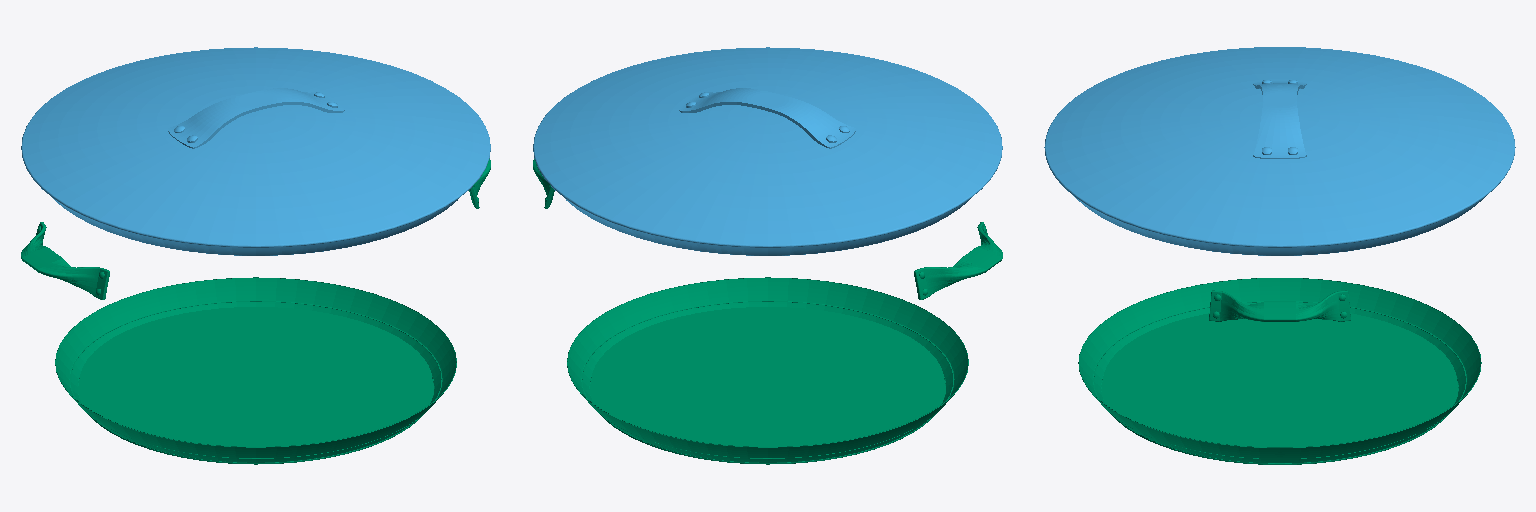
The robot description file, URDF, robot "partnet_u90e167cc-b75d-420e-bee9-9e7713761a19":
<?xml version="1.0" ?>
<robot name="partnet_u90e167cc-b75d-420e-bee9-9e7713761a19">
	<link name="base"/>
	<link name="link_0">
		<visual name="lid-1">
			<origin xyz="0 0 0"/>
			<geometry>
				<mesh filename="textured_objs/original-8.obj" scale="0.2 0.2 0.2"/>
			</geometry>
		</visual>
		<visual name="lid-1">
			<origin xyz="0 0 0"/>
			<geometry>
				<mesh filename="textured_objs/original-4.obj" scale="0.2 0.2 0.2"/>
			</geometry>
		</visual>
		<visual name="lid-1">
			<origin xyz="0 0 0"/>
			<geometry>
				<mesh filename="textured_objs/original-7.obj" scale="0.2 0.2 0.2"/>
			</geometry>
		</visual>
		<visual name="lid-1">
			<origin xyz="0 0 0"/>
			<geometry>
				<mesh filename="textured_objs/original-5.obj" scale="0.2 0.2 0.2"/>
			</geometry>
		</visual>
		<visual name="lid-1">
			<origin xyz="0 0 0"/>
			<geometry>
				<mesh filename="textured_objs/original-6.obj" scale="0.2 0.2 0.2"/>
			</geometry>
		</visual>
		<visual name="lid-1">
			<origin xyz="0 0 0"/>
			<geometry>
				<mesh filename="textured_objs/original-3.obj" scale="0.2 0.2 0.2"/>
			</geometry>
		</visual>
		<collision>
			<origin xyz="0 0 0"/>
			<geometry>
				<mesh filename="textured_objs/original-8.obj" scale="0.2 0.2 0.2"/>
			</geometry>
		</collision>
		<collision>
			<origin xyz="0 0 0"/>
			<geometry>
				<mesh filename="textured_objs/original-4.obj" scale="0.2 0.2 0.2"/>
			</geometry>
		</collision>
		<collision>
			<origin xyz="0 0 0"/>
			<geometry>
				<mesh filename="textured_objs/original-7.obj" scale="0.2 0.2 0.2"/>
			</geometry>
		</collision>
		<collision>
			<origin xyz="0 0 0"/>
			<geometry>
				<mesh filename="textured_objs/original-5.obj" scale="0.2 0.2 0.2"/>
			</geometry>
		</collision>
		<collision>
			<origin xyz="0 0 0"/>
			<geometry>
				<mesh filename="textured_objs/original-6.obj" scale="0.2 0.2 0.2"/>
			</geometry>
		</collision>
		<collision>
			<origin xyz="0 0 0"/>
			<geometry>
				<mesh filename="textured_objs/original-3.obj" scale="0.2 0.2 0.2"/>
			</geometry>
		</collision>
	</link>
	<joint name="joint_0" type="prismatic">
		<origin xyz="0 0 0"/>
		<axis xyz="0 1 0"/>
		<child link="link_0"/>
		<parent link="link_1"/>
		<limit lower="0" upper="0.1"/>
	</joint>
	<link name="link_1">
		<visual name="base_body-2">
			<origin xyz="0 0 0"/>
			<geometry>
				<mesh filename="textured_objs/original-29.obj" scale="0.2 0.2 0.2"/>
			</geometry>
		</visual>
		<visual name="base_body-2">
			<origin xyz="0 0 0"/>
			<geometry>
				<mesh filename="textured_objs/original-21.obj" scale="0.2 0.2 0.2"/>
			</geometry>
		</visual>
		<visual name="base_body-2">
			<origin xyz="0 0 0"/>
			<geometry>
				<mesh filename="textured_objs/original-36.obj" scale="0.2 0.2 0.2"/>
			</geometry>
		</visual>
		<visual name="base_body-2">
			<origin xyz="0 0 0"/>
			<geometry>
				<mesh filename="textured_objs/original-41.obj" scale="0.2 0.2 0.2"/>
			</geometry>
		</visual>
		<visual name="base_body-2">
			<origin xyz="0 0 0"/>
			<geometry>
				<mesh filename="textured_objs/original-28.obj" scale="0.2 0.2 0.2"/>
			</geometry>
		</visual>
		<visual name="base_body-2">
			<origin xyz="0 0 0"/>
			<geometry>
				<mesh filename="textured_objs/original-43.obj" scale="0.2 0.2 0.2"/>
			</geometry>
		</visual>
		<visual name="base_body-2">
			<origin xyz="0 0 0"/>
			<geometry>
				<mesh filename="textured_objs/original-52.obj" scale="0.2 0.2 0.2"/>
			</geometry>
		</visual>
		<visual name="base_body-2">
			<origin xyz="0 0 0"/>
			<geometry>
				<mesh filename="textured_objs/original-22.obj" scale="0.2 0.2 0.2"/>
			</geometry>
		</visual>
		<visual name="base_body-2">
			<origin xyz="0 0 0"/>
			<geometry>
				<mesh filename="textured_objs/original-44.obj" scale="0.2 0.2 0.2"/>
			</geometry>
		</visual>
		<visual name="base_body-2">
			<origin xyz="0 0 0"/>
			<geometry>
				<mesh filename="textured_objs/original-16.obj" scale="0.2 0.2 0.2"/>
			</geometry>
		</visual>
		<visual name="base_body-2">
			<origin xyz="0 0 0"/>
			<geometry>
				<mesh filename="textured_objs/original-45.obj" scale="0.2 0.2 0.2"/>
			</geometry>
		</visual>
		<visual name="base_body-2">
			<origin xyz="0 0 0"/>
			<geometry>
				<mesh filename="textured_objs/original-35.obj" scale="0.2 0.2 0.2"/>
			</geometry>
		</visual>
		<visual name="base_body-2">
			<origin xyz="0 0 0"/>
			<geometry>
				<mesh filename="textured_objs/original-49.obj" scale="0.2 0.2 0.2"/>
			</geometry>
		</visual>
		<visual name="base_body-2">
			<origin xyz="0 0 0"/>
			<geometry>
				<mesh filename="textured_objs/original-61.obj" scale="0.2 0.2 0.2"/>
			</geometry>
		</visual>
		<visual name="base_body-2">
			<origin xyz="0 0 0"/>
			<geometry>
				<mesh filename="textured_objs/original-39.obj" scale="0.2 0.2 0.2"/>
			</geometry>
		</visual>
		<visual name="base_body-2">
			<origin xyz="0 0 0"/>
			<geometry>
				<mesh filename="textured_objs/original-59.obj" scale="0.2 0.2 0.2"/>
			</geometry>
		</visual>
		<visual name="base_body-2">
			<origin xyz="0 0 0"/>
			<geometry>
				<mesh filename="textured_objs/original-54.obj" scale="0.2 0.2 0.2"/>
			</geometry>
		</visual>
		<visual name="base_body-2">
			<origin xyz="0 0 0"/>
			<geometry>
				<mesh filename="textured_objs/original-27.obj" scale="0.2 0.2 0.2"/>
			</geometry>
		</visual>
		<visual name="base_body-2">
			<origin xyz="0 0 0"/>
			<geometry>
				<mesh filename="textured_objs/original-51.obj" scale="0.2 0.2 0.2"/>
			</geometry>
		</visual>
		<visual name="base_body-2">
			<origin xyz="0 0 0"/>
			<geometry>
				<mesh filename="textured_objs/original-55.obj" scale="0.2 0.2 0.2"/>
			</geometry>
		</visual>
		<visual name="base_body-2">
			<origin xyz="0 0 0"/>
			<geometry>
				<mesh filename="textured_objs/original-50.obj" scale="0.2 0.2 0.2"/>
			</geometry>
		</visual>
		<visual name="base_body-2">
			<origin xyz="0 0 0"/>
			<geometry>
				<mesh filename="textured_objs/original-31.obj" scale="0.2 0.2 0.2"/>
			</geometry>
		</visual>
		<visual name="base_body-2">
			<origin xyz="0 0 0"/>
			<geometry>
				<mesh filename="textured_objs/original-37.obj" scale="0.2 0.2 0.2"/>
			</geometry>
		</visual>
		<visual name="base_body-2">
			<origin xyz="0 0 0"/>
			<geometry>
				<mesh filename="textured_objs/original-48.obj" scale="0.2 0.2 0.2"/>
			</geometry>
		</visual>
		<visual name="base_body-2">
			<origin xyz="0 0 0"/>
			<geometry>
				<mesh filename="textured_objs/original-15.obj" scale="0.2 0.2 0.2"/>
			</geometry>
		</visual>
		<visual name="base_body-2">
			<origin xyz="0 0 0"/>
			<geometry>
				<mesh filename="textured_objs/original-56.obj" scale="0.2 0.2 0.2"/>
			</geometry>
		</visual>
		<visual name="base_body-2">
			<origin xyz="0 0 0"/>
			<geometry>
				<mesh filename="textured_objs/original-62.obj" scale="0.2 0.2 0.2"/>
			</geometry>
		</visual>
		<visual name="base_body-2">
			<origin xyz="0 0 0"/>
			<geometry>
				<mesh filename="textured_objs/original-58.obj" scale="0.2 0.2 0.2"/>
			</geometry>
		</visual>
		<visual name="base_body-2">
			<origin xyz="0 0 0"/>
			<geometry>
				<mesh filename="textured_objs/original-38.obj" scale="0.2 0.2 0.2"/>
			</geometry>
		</visual>
		<visual name="base_body-2">
			<origin xyz="0 0 0"/>
			<geometry>
				<mesh filename="textured_objs/original-34.obj" scale="0.2 0.2 0.2"/>
			</geometry>
		</visual>
		<visual name="base_body-2">
			<origin xyz="0 0 0"/>
			<geometry>
				<mesh filename="textured_objs/original-18.obj" scale="0.2 0.2 0.2"/>
			</geometry>
		</visual>
		<visual name="base_body-2">
			<origin xyz="0 0 0"/>
			<geometry>
				<mesh filename="textured_objs/original-25.obj" scale="0.2 0.2 0.2"/>
			</geometry>
		</visual>
		<visual name="base_body-2">
			<origin xyz="0 0 0"/>
			<geometry>
				<mesh filename="textured_objs/original-12.obj" scale="0.2 0.2 0.2"/>
			</geometry>
		</visual>
		<visual name="base_body-2">
			<origin xyz="0 0 0"/>
			<geometry>
				<mesh filename="textured_objs/original-42.obj" scale="0.2 0.2 0.2"/>
			</geometry>
		</visual>
		<visual name="base_body-2">
			<origin xyz="0 0 0"/>
			<geometry>
				<mesh filename="textured_objs/original-24.obj" scale="0.2 0.2 0.2"/>
			</geometry>
		</visual>
		<visual name="base_body-2">
			<origin xyz="0 0 0"/>
			<geometry>
				<mesh filename="textured_objs/original-20.obj" scale="0.2 0.2 0.2"/>
			</geometry>
		</visual>
		<visual name="base_body-2">
			<origin xyz="0 0 0"/>
			<geometry>
				<mesh filename="textured_objs/original-32.obj" scale="0.2 0.2 0.2"/>
			</geometry>
		</visual>
		<visual name="base_body-2">
			<origin xyz="0 0 0"/>
			<geometry>
				<mesh filename="textured_objs/original-47.obj" scale="0.2 0.2 0.2"/>
			</geometry>
		</visual>
		<visual name="base_body-2">
			<origin xyz="0 0 0"/>
			<geometry>
				<mesh filename="textured_objs/original-53.obj" scale="0.2 0.2 0.2"/>
			</geometry>
		</visual>
		<visual name="base_body-2">
			<origin xyz="0 0 0"/>
			<geometry>
				<mesh filename="textured_objs/original-14.obj" scale="0.2 0.2 0.2"/>
			</geometry>
		</visual>
		<visual name="base_body-2">
			<origin xyz="0 0 0"/>
			<geometry>
				<mesh filename="textured_objs/original-60.obj" scale="0.2 0.2 0.2"/>
			</geometry>
		</visual>
		<visual name="base_body-2">
			<origin xyz="0 0 0"/>
			<geometry>
				<mesh filename="textured_objs/original-40.obj" scale="0.2 0.2 0.2"/>
			</geometry>
		</visual>
		<visual name="base_body-2">
			<origin xyz="0 0 0"/>
			<geometry>
				<mesh filename="textured_objs/original-46.obj" scale="0.2 0.2 0.2"/>
			</geometry>
		</visual>
		<visual name="base_body-2">
			<origin xyz="0 0 0"/>
			<geometry>
				<mesh filename="textured_objs/original-57.obj" scale="0.2 0.2 0.2"/>
			</geometry>
		</visual>
		<collision>
			<origin xyz="0 0 0"/>
			<geometry>
				<mesh filename="textured_objs/original-29.obj" scale="0.2 0.2 0.2"/>
			</geometry>
		</collision>
		<collision>
			<origin xyz="0 0 0"/>
			<geometry>
				<mesh filename="textured_objs/original-21.obj" scale="0.2 0.2 0.2"/>
			</geometry>
		</collision>
		<collision>
			<origin xyz="0 0 0"/>
			<geometry>
				<mesh filename="textured_objs/original-36.obj" scale="0.2 0.2 0.2"/>
			</geometry>
		</collision>
		<collision>
			<origin xyz="0 0 0"/>
			<geometry>
				<mesh filename="textured_objs/original-41.obj" scale="0.2 0.2 0.2"/>
			</geometry>
		</collision>
		<collision>
			<origin xyz="0 0 0"/>
			<geometry>
				<mesh filename="textured_objs/original-28.obj" scale="0.2 0.2 0.2"/>
			</geometry>
		</collision>
		<collision>
			<origin xyz="0 0 0"/>
			<geometry>
				<mesh filename="textured_objs/original-43.obj" scale="0.2 0.2 0.2"/>
			</geometry>
		</collision>
		<collision>
			<origin xyz="0 0 0"/>
			<geometry>
				<mesh filename="textured_objs/original-52.obj" scale="0.2 0.2 0.2"/>
			</geometry>
		</collision>
		<collision>
			<origin xyz="0 0 0"/>
			<geometry>
				<mesh filename="textured_objs/original-22.obj" scale="0.2 0.2 0.2"/>
			</geometry>
		</collision>
		<collision>
			<origin xyz="0 0 0"/>
			<geometry>
				<mesh filename="textured_objs/original-44.obj" scale="0.2 0.2 0.2"/>
			</geometry>
		</collision>
		<collision>
			<origin xyz="0 0 0"/>
			<geometry>
				<mesh filename="textured_objs/original-16.obj" scale="0.2 0.2 0.2"/>
			</geometry>
		</collision>
		<collision>
			<origin xyz="0 0 0"/>
			<geometry>
				<mesh filename="textured_objs/original-45.obj" scale="0.2 0.2 0.2"/>
			</geometry>
		</collision>
		<collision>
			<origin xyz="0 0 0"/>
			<geometry>
				<mesh filename="textured_objs/original-35.obj" scale="0.2 0.2 0.2"/>
			</geometry>
		</collision>
		<collision>
			<origin xyz="0 0 0"/>
			<geometry>
				<mesh filename="textured_objs/original-49.obj" scale="0.2 0.2 0.2"/>
			</geometry>
		</collision>
		<collision>
			<origin xyz="0 0 0"/>
			<geometry>
				<mesh filename="textured_objs/original-61.obj" scale="0.2 0.2 0.2"/>
			</geometry>
		</collision>
		<collision>
			<origin xyz="0 0 0"/>
			<geometry>
				<mesh filename="textured_objs/original-39.obj" scale="0.2 0.2 0.2"/>
			</geometry>
		</collision>
		<collision>
			<origin xyz="0 0 0"/>
			<geometry>
				<mesh filename="textured_objs/original-59.obj" scale="0.2 0.2 0.2"/>
			</geometry>
		</collision>
		<collision>
			<origin xyz="0 0 0"/>
			<geometry>
				<mesh filename="textured_objs/original-54.obj" scale="0.2 0.2 0.2"/>
			</geometry>
		</collision>
		<collision>
			<origin xyz="0 0 0"/>
			<geometry>
				<mesh filename="textured_objs/original-27.obj" scale="0.2 0.2 0.2"/>
			</geometry>
		</collision>
		<collision>
			<origin xyz="0 0 0"/>
			<geometry>
				<mesh filename="textured_objs/original-51.obj" scale="0.2 0.2 0.2"/>
			</geometry>
		</collision>
		<collision>
			<origin xyz="0 0 0"/>
			<geometry>
				<mesh filename="textured_objs/original-55.obj" scale="0.2 0.2 0.2"/>
			</geometry>
		</collision>
		<collision>
			<origin xyz="0 0 0"/>
			<geometry>
				<mesh filename="textured_objs/original-50.obj" scale="0.2 0.2 0.2"/>
			</geometry>
		</collision>
		<collision>
			<origin xyz="0 0 0"/>
			<geometry>
				<mesh filename="textured_objs/original-31.obj" scale="0.2 0.2 0.2"/>
			</geometry>
		</collision>
		<collision>
			<origin xyz="0 0 0"/>
			<geometry>
				<mesh filename="textured_objs/original-37.obj" scale="0.2 0.2 0.2"/>
			</geometry>
		</collision>
		<collision>
			<origin xyz="0 0 0"/>
			<geometry>
				<mesh filename="textured_objs/original-48.obj" scale="0.2 0.2 0.2"/>
			</geometry>
		</collision>
		<collision>
			<origin xyz="0 0 0"/>
			<geometry>
				<mesh filename="textured_objs/original-15.obj" scale="0.2 0.2 0.2"/>
			</geometry>
		</collision>
		<collision>
			<origin xyz="0 0 0"/>
			<geometry>
				<mesh filename="textured_objs/original-56.obj" scale="0.2 0.2 0.2"/>
			</geometry>
		</collision>
		<collision>
			<origin xyz="0 0 0"/>
			<geometry>
				<mesh filename="textured_objs/original-62.obj" scale="0.2 0.2 0.2"/>
			</geometry>
		</collision>
		<collision>
			<origin xyz="0 0 0"/>
			<geometry>
				<mesh filename="textured_objs/original-58.obj" scale="0.2 0.2 0.2"/>
			</geometry>
		</collision>
		<collision>
			<origin xyz="0 0 0"/>
			<geometry>
				<mesh filename="textured_objs/original-38.obj" scale="0.2 0.2 0.2"/>
			</geometry>
		</collision>
		<collision>
			<origin xyz="0 0 0"/>
			<geometry>
				<mesh filename="textured_objs/original-34.obj" scale="0.2 0.2 0.2"/>
			</geometry>
		</collision>
		<collision>
			<origin xyz="0 0 0"/>
			<geometry>
				<mesh filename="textured_objs/original-18.obj" scale="0.2 0.2 0.2"/>
			</geometry>
		</collision>
		<collision>
			<origin xyz="0 0 0"/>
			<geometry>
				<mesh filename="textured_objs/original-25.obj" scale="0.2 0.2 0.2"/>
			</geometry>
		</collision>
		<collision>
			<origin xyz="0 0 0"/>
			<geometry>
				<mesh filename="textured_objs/original-12.obj" scale="0.2 0.2 0.2"/>
			</geometry>
		</collision>
		<collision>
			<origin xyz="0 0 0"/>
			<geometry>
				<mesh filename="textured_objs/original-42.obj" scale="0.2 0.2 0.2"/>
			</geometry>
		</collision>
		<collision>
			<origin xyz="0 0 0"/>
			<geometry>
				<mesh filename="textured_objs/original-24.obj" scale="0.2 0.2 0.2"/>
			</geometry>
		</collision>
		<collision>
			<origin xyz="0 0 0"/>
			<geometry>
				<mesh filename="textured_objs/original-20.obj" scale="0.2 0.2 0.2"/>
			</geometry>
		</collision>
		<collision>
			<origin xyz="0 0 0"/>
			<geometry>
				<mesh filename="textured_objs/original-32.obj" scale="0.2 0.2 0.2"/>
			</geometry>
		</collision>
		<collision>
			<origin xyz="0 0 0"/>
			<geometry>
				<mesh filename="textured_objs/original-47.obj" scale="0.2 0.2 0.2"/>
			</geometry>
		</collision>
		<collision>
			<origin xyz="0 0 0"/>
			<geometry>
				<mesh filename="textured_objs/original-53.obj" scale="0.2 0.2 0.2"/>
			</geometry>
		</collision>
		<collision>
			<origin xyz="0 0 0"/>
			<geometry>
				<mesh filename="textured_objs/original-14.obj" scale="0.2 0.2 0.2"/>
			</geometry>
		</collision>
		<collision>
			<origin xyz="0 0 0"/>
			<geometry>
				<mesh filename="textured_objs/original-60.obj" scale="0.2 0.2 0.2"/>
			</geometry>
		</collision>
		<collision>
			<origin xyz="0 0 0"/>
			<geometry>
				<mesh filename="textured_objs/original-40.obj" scale="0.2 0.2 0.2"/>
			</geometry>
		</collision>
		<collision>
			<origin xyz="0 0 0"/>
			<geometry>
				<mesh filename="textured_objs/original-46.obj" scale="0.2 0.2 0.2"/>
			</geometry>
		</collision>
		<collision>
			<origin xyz="0 0 0"/>
			<geometry>
				<mesh filename="textured_objs/original-57.obj" scale="0.2 0.2 0.2"/>
			</geometry>
		</collision>
	</link>
	<joint name="joint_1" type="fixed">
		<origin rpy="1.570796326794897 0 -1.570796326794897" xyz="0 0 0"/>
		<child link="link_1"/>
		<parent link="base"/>
	</joint>
</robot>

--- Facts derived from the render (not from the file) ---
The picture shows the robot from 3 angles, left to right: view 1: azimuth 30°, elevation 25°; view 2: azimuth 150°, elevation 25°; view 3: azimuth 270°, elevation 25°; orthographic projection.
Model partnet_u90e167cc-b75d-420e-bee9-9e7713761a19 with 3 links and 2 joints (1 prismatic, 1 fixed), rooted at base, posed all joints at 0.
Links seen in each view (by area): view 1: link_0, link_1; view 2: link_0, link_1; view 3: link_0, link_1.
Link boxes in pixels (x1,y1,x2,y2): link_0: (21, 47, 490, 255); link_1: (21, 159, 490, 464); link_0: (533, 47, 1002, 255); link_1: (533, 159, 1002, 464); link_0: (1044, 47, 1515, 255); link_1: (1078, 278, 1481, 464).
Bounding box of the posed robot: 0.3874 × 0.3477 × 0.2623 m (x, y, z).
50 mesh visuals loaded from 50 distinct referenced files (50 OBJ).